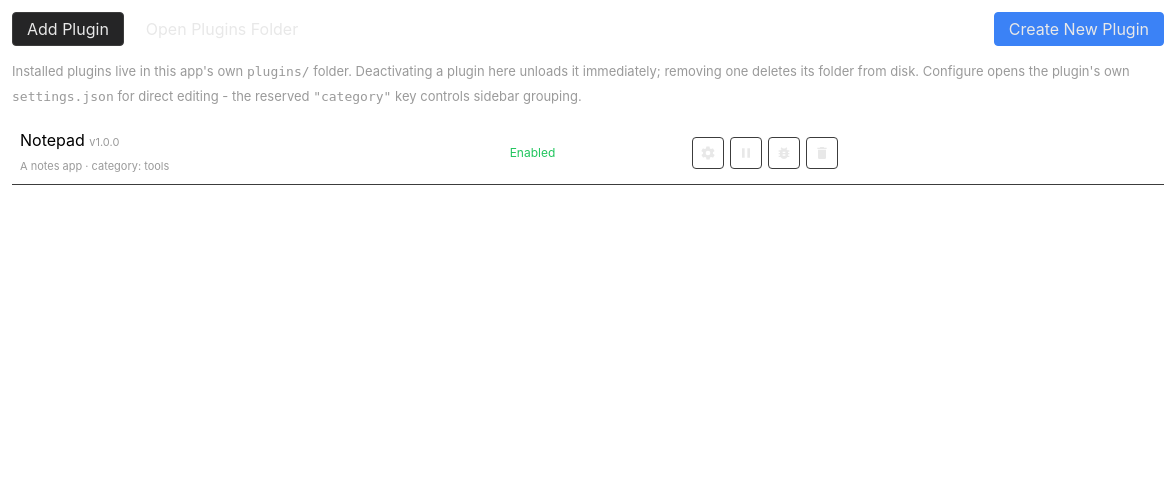
Scenario: SettingsPlugins › loads settings.json into the ConfigurePanel when Configure is clicked
Expected: the text "Enabled" is shown, [502,122,684,184]
Click the button named "Configure" at (708, 153), box [692,137,724,169]
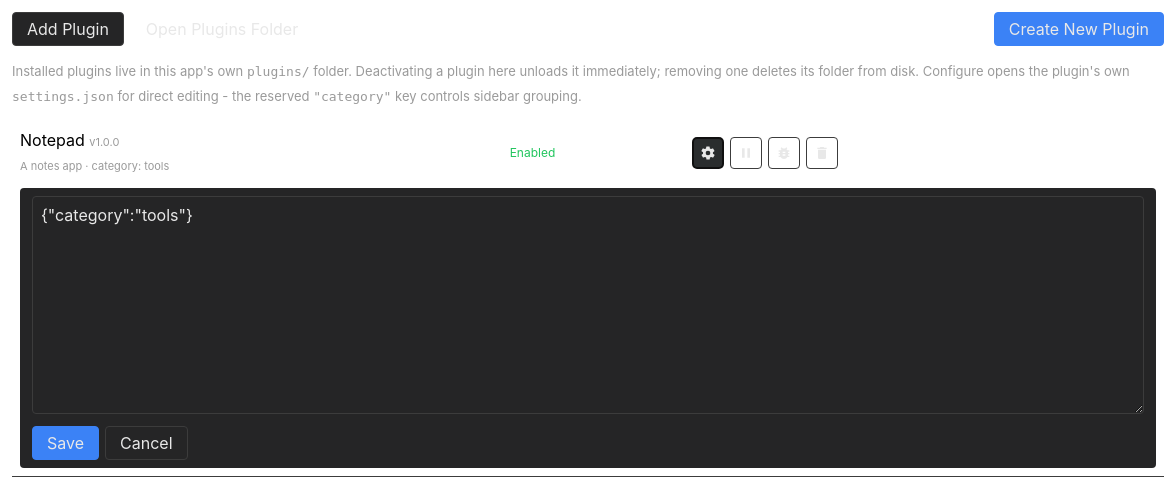
Expected: the text box showing "{\"category\":\"tools\"}" is shown, [32,196,1144,414]
